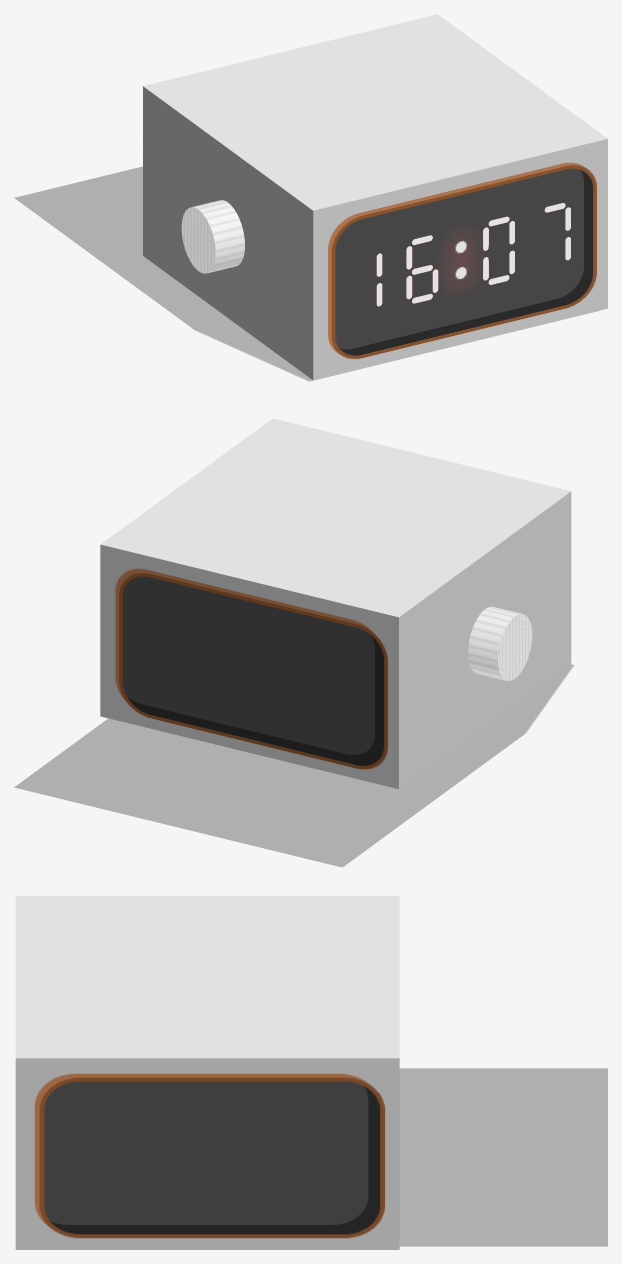
The model's file is block_25.glb.
3 views of the same model, one above another, from view 1: azimuth 30°, elevation 25°; view 2: azimuth 150°, elevation 25°; view 3: azimuth 270°, elevation 25° (orthographic). The views are drawn at different scales.
Parts seen in each view (by area): view 1: hitObj, block, Object3D; view 2: hitObj, block; view 3: hitObj, block.
Part boxes in pixels (x1,y1,x2,y2): hitObj: (143, 14, 607, 380); block: (15, 167, 312, 381); Object3D: (376, 203, 570, 306); hitObj: (100, 418, 571, 788); block: (14, 664, 573, 867); hitObj: (15, 896, 399, 1249); block: (400, 1068, 607, 1246).
Bounding box in the file's own units: 11.24 × 5.53 × 15.47.
Materials: 8 (8 with a texture image).
